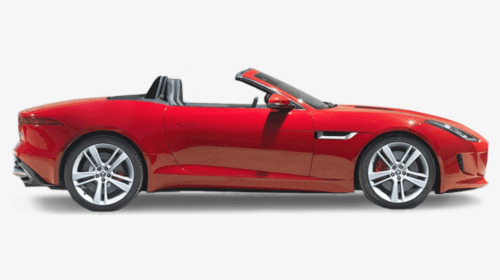mobil: (12, 64, 492, 214)
